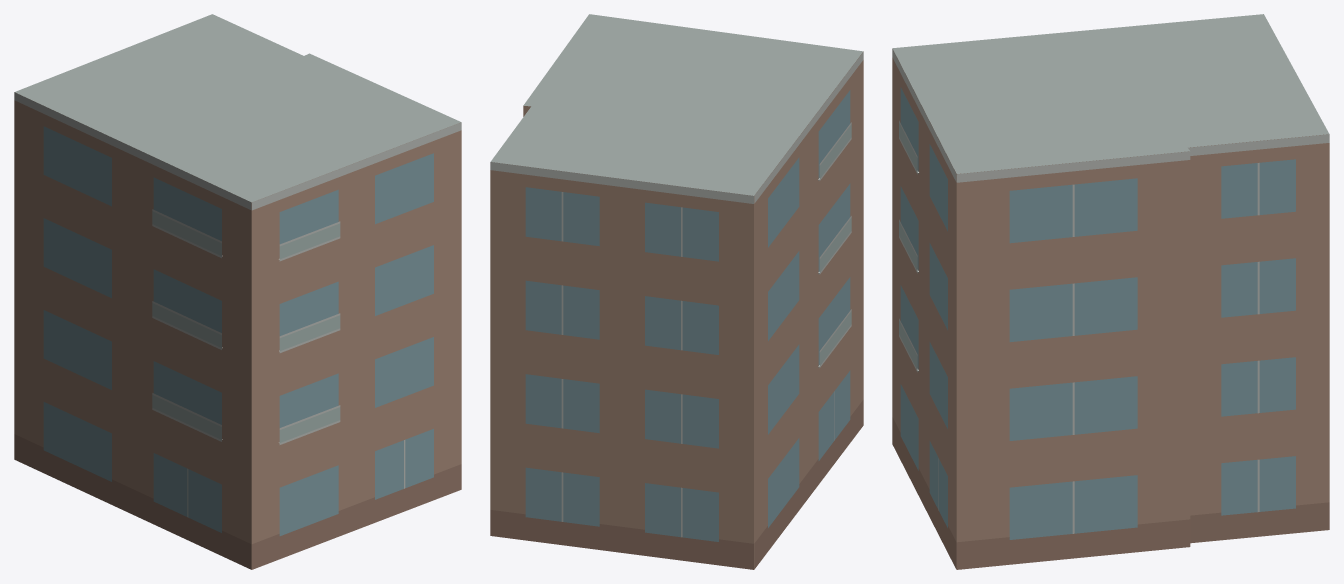
File: survey-upis-33015730.glb
The picture shows the model from 3 angles, left to right: view 1: azimuth 30°, elevation 25°; view 2: azimuth 150°, elevation 25°; view 3: azimuth 270°, elevation 25°; orthographic projection. The views are drawn at different scales.
Visible parts, largest first — view 1: survey-upis-33015730.tmp; view 2: survey-upis-33015730.tmp; view 3: survey-upis-33015730.tmp.
Boxes of the visible parts, left/top/right/bottom form: survey-upis-33015730.tmp: left=14, top=14, right=461, bottom=569; survey-upis-33015730.tmp: left=490, top=14, right=863, bottom=569; survey-upis-33015730.tmp: left=892, top=14, right=1329, bottom=569.
Bounding box in the file's own units: 9.64 × 11.1 × 11.12.
